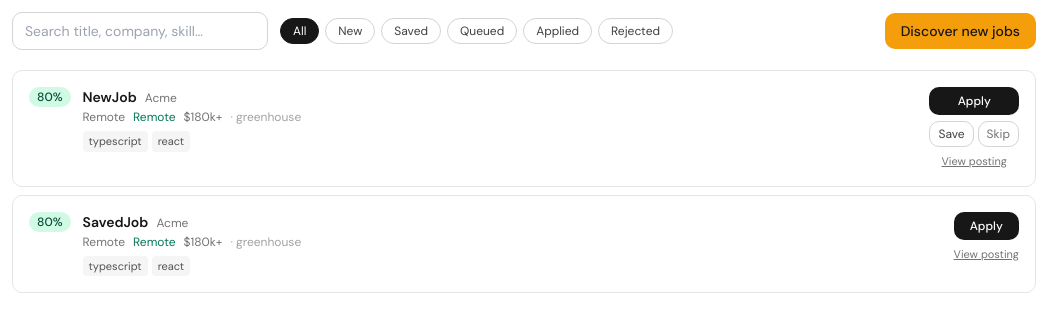
Test: JobsList › filters by status chip
expect the heading "NewJob" is shown: met, box [82,87,137,107]
What coordinates should you click on to do the following:
click the button "Saved"
I would click on:
 (411, 31)
Its box is [381,18,441,44].
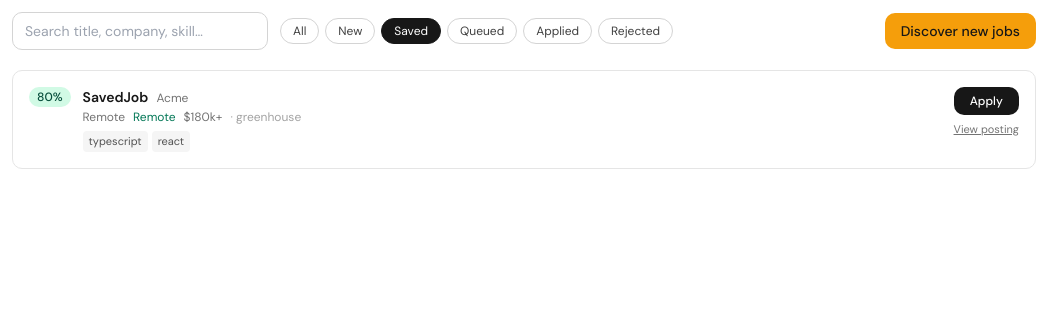
expect the heading "SavedJob" is shown: met, box [82,87,148,107]
expect the heading "NewJob" is gone: met
